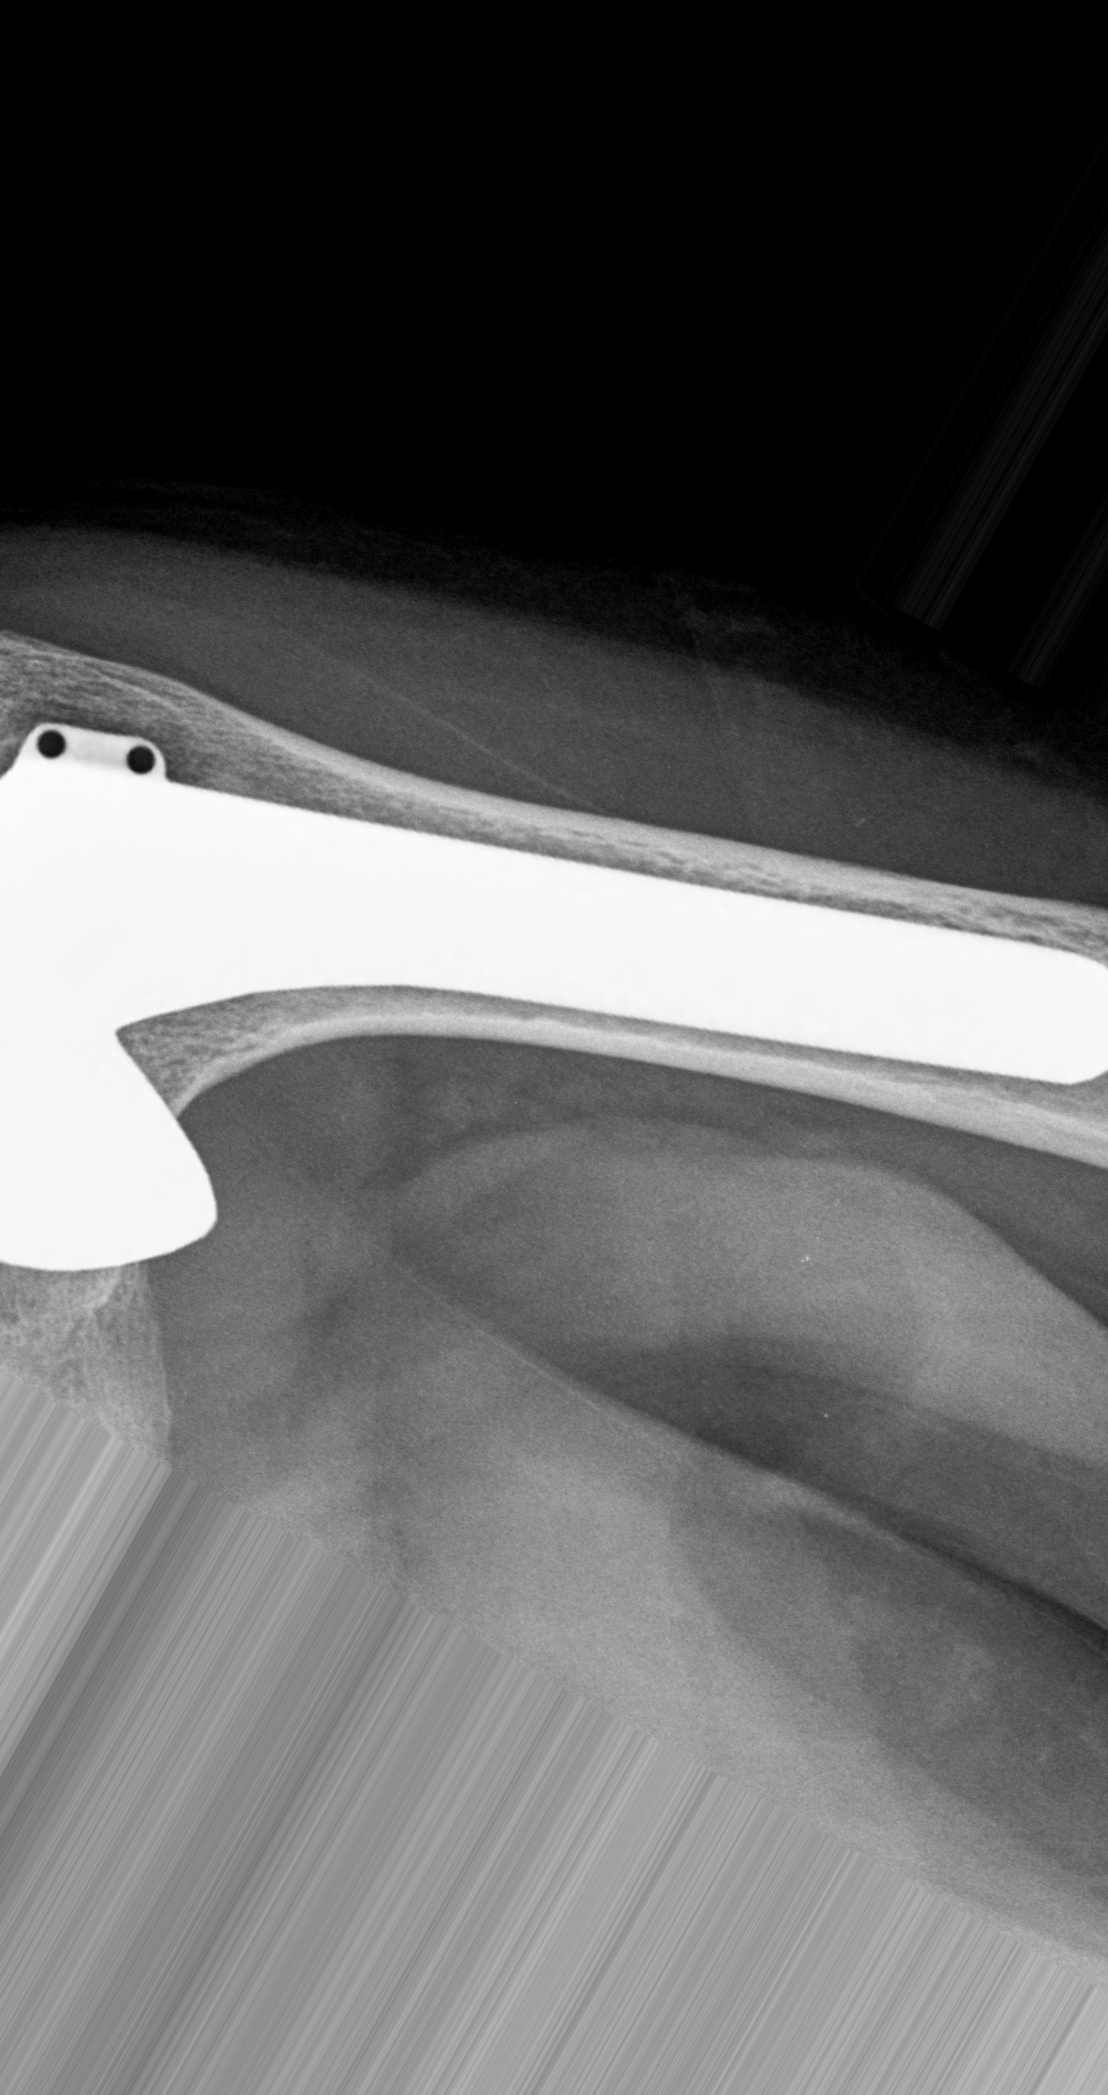Shoulder - AequalisPressfit - Tornier: (1, 689, 233, 1290)
